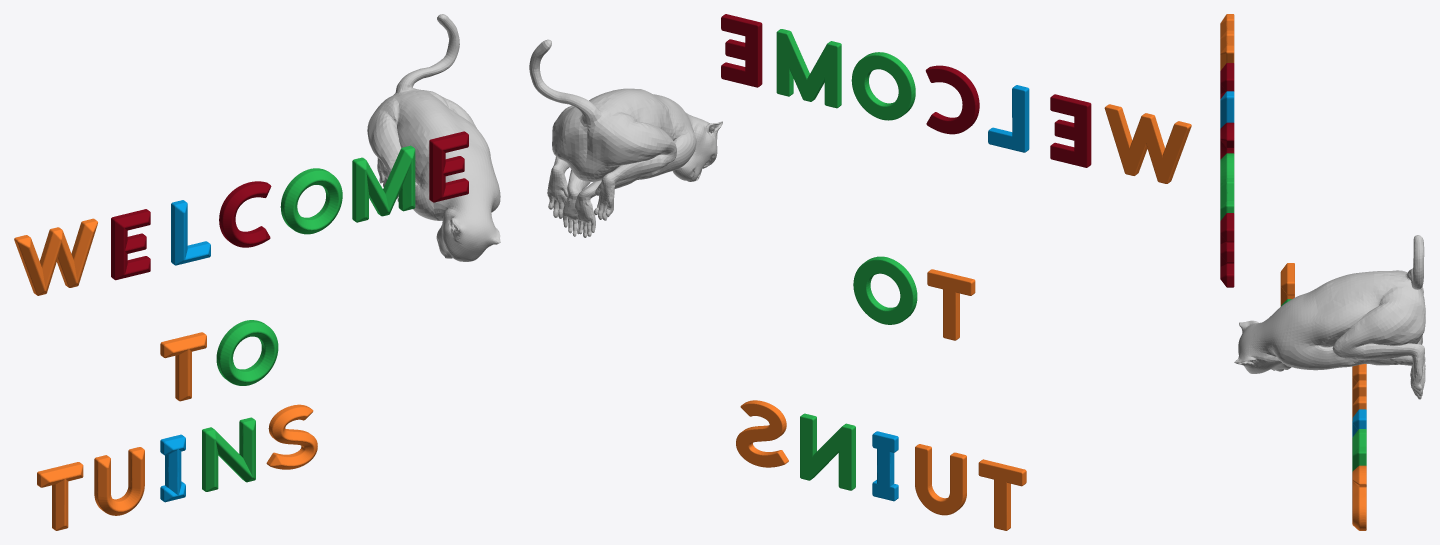
The model's file is Welcome4.obj.
The picture shows the model from 3 angles, left to right: view 1: azimuth 30°, elevation 25°; view 2: azimuth 150°, elevation 25°; view 3: azimuth 270°, elevation 25°; orthographic projection. The views are drawn at different scales.
Parts seen in each view (by area): view 1: Object.15, Object.11, Object.5, Object.6, Object.7, Object.13, Object.12, Object.3, Object.10, Object.8, Object.2, Object.9 (+3 smaller); view 2: Object.15, Object.11, Object.5, Object.6, Object.13, Object.7, Object.3, Object.12, Object.10, Object.8, Object.2, Object.9 (+3 smaller); view 3: Object.15, Object.12, Object.8, Object.11, Object.6, Object.9, Object.5, Object.2, Object.4, Object.10, Object.3, Object.7 (+2 smaller).
Boxes of the visible parts, left/top/right/bottom form: Object.15: left=367, top=14, right=500, bottom=261; Object.11: left=14, top=218, right=97, bottom=295; Object.5: left=352, top=145, right=415, bottom=222; Object.6: left=202, top=417, right=255, bottom=491; Object.7: left=280, top=168, right=342, bottom=234; Object.13: left=216, top=320, right=278, bottom=385; Object.12: left=429, top=131, right=468, bottom=202; Object.3: left=111, top=209, right=150, bottom=280; Object.10: left=94, top=447, right=144, bottom=515; Object.8: left=266, top=404, right=317, bottom=469; Object.2: left=219, top=181, right=271, bottom=247; Object.9: left=160, top=332, right=206, bottom=401; Object.15: left=529, top=39, right=722, bottom=237; Object.11: left=1104, top=104, right=1191, bottom=183; Object.5: left=776, top=29, right=841, bottom=108; Object.6: left=800, top=413, right=855, bottom=490; Object.13: left=853, top=256, right=917, bottom=324; Object.7: left=851, top=52, right=915, bottom=120; Object.3: left=1050, top=94, right=1091, bottom=167; Object.12: left=721, top=14, right=762, bottom=87; Object.10: left=915, top=444, right=966, bottom=515; Object.8: left=736, top=400, right=788, bottom=467; Object.2: left=925, top=65, right=979, bottom=134; Object.9: left=927, top=269, right=975, bottom=340; Object.15: left=1234, top=235, right=1425, bottom=399; Object.12: left=1220, top=213, right=1234, bottom=287; Object.8: left=1352, top=465, right=1366, bottom=530; Object.11: left=1220, top=14, right=1234, bottom=70; Object.6: left=1352, top=429, right=1366, bottom=471; Object.9: left=1280, top=263, right=1294, bottom=305; Object.5: left=1220, top=178, right=1234, bottom=220; Object.2: left=1220, top=122, right=1234, bottom=159; Object.4: left=1220, top=91, right=1234, bottom=128; Object.10: left=1352, top=380, right=1366, bottom=420; Object.3: left=1220, top=63, right=1234, bottom=98; Object.7: left=1220, top=153, right=1234, bottom=185.
Size of the model in its own units: 181 by 126 by 61.8.
